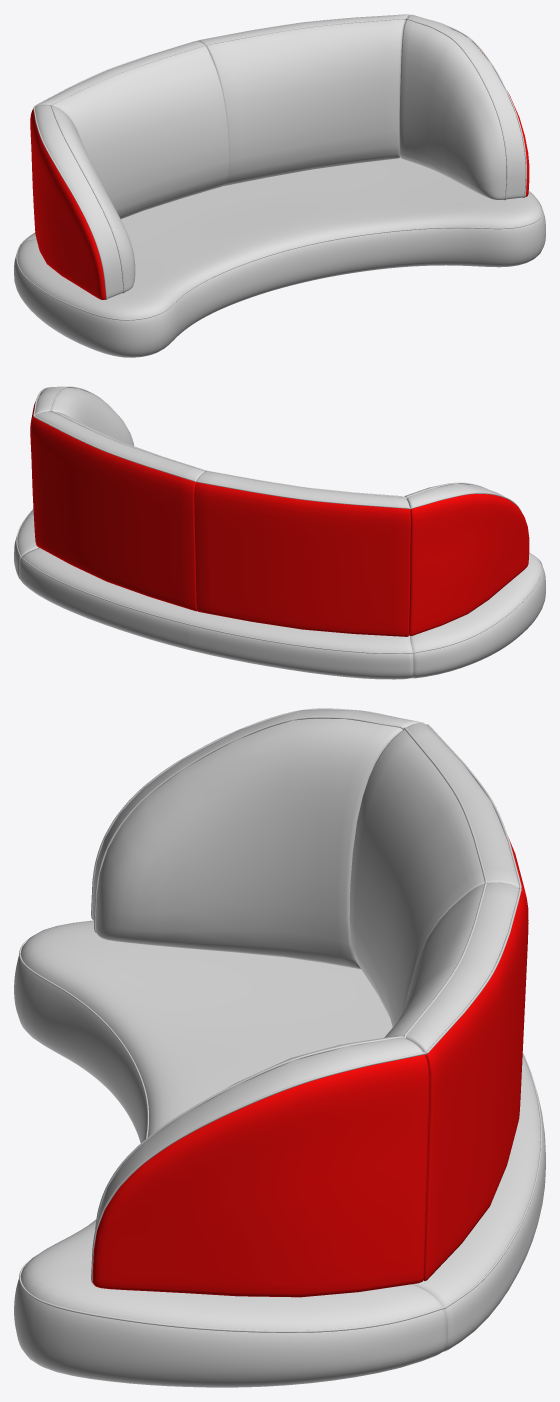
The model's file is levante_sofa_25.gltf.
3 views of the same model, one above another, from view 1: azimuth 30°, elevation 25°; view 2: azimuth 150°, elevation 25°; view 3: azimuth 270°, elevation 25° (orthographic). The views are drawn at different scales.
Visible parts, largest first — view 1: sofa_25; view 2: sofa_25; view 3: sofa_25.
Boxes of the visible parts, x1,y1,x2,y2 form: sofa_25: (14,14,545,357); sofa_25: (14,386,545,679); sofa_25: (14,708,545,1387).
Size of the model in its own units: 1.85 by 0.654 by 1.01.
